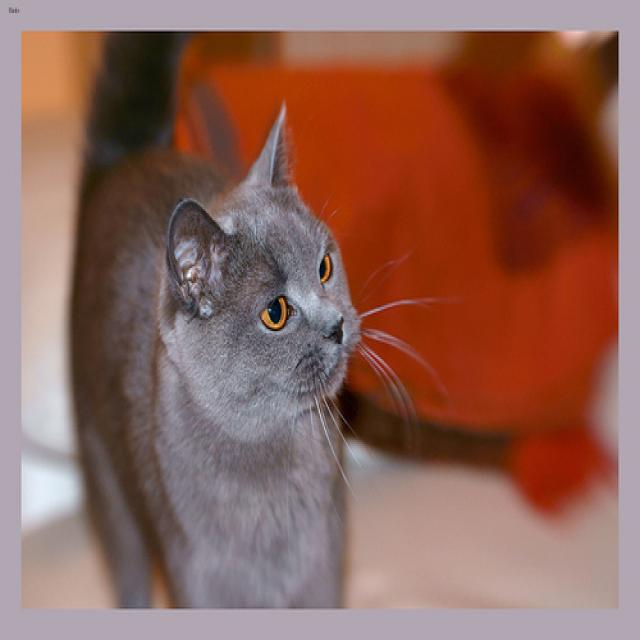cat: (165, 102, 359, 410)
